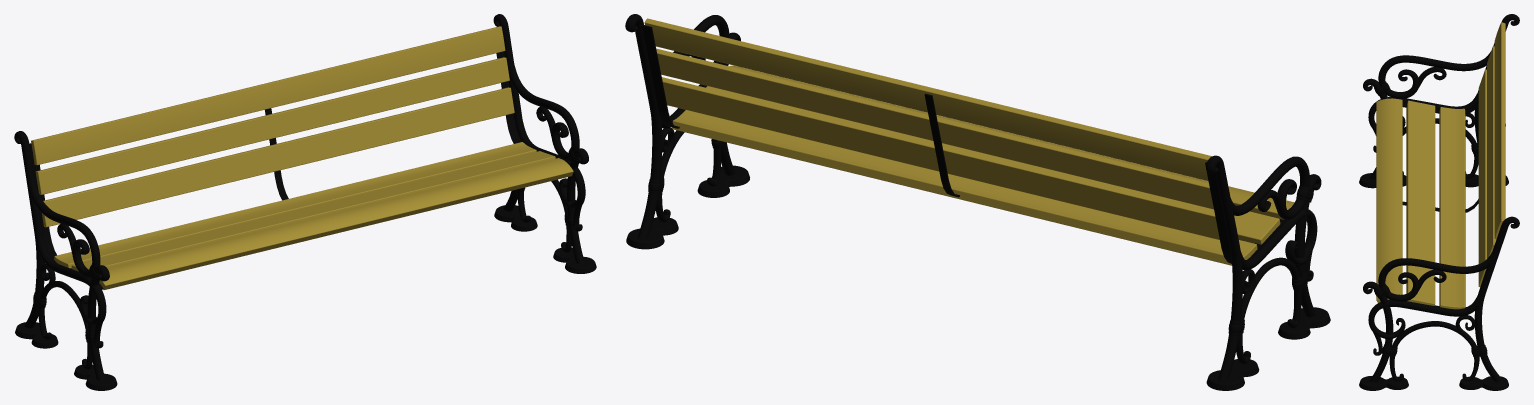
Rendered from Robers_PB1103.fbx.
The picture shows the model from 3 angles, left to right: view 1: azimuth 30°, elevation 25°; view 2: azimuth 150°, elevation 25°; view 3: azimuth 270°, elevation 25°; orthographic projection. The views are drawn at different scales.
Parts seen in each view (by area): view 1: Robers_PB1103; view 2: Robers_PB1103; view 3: Robers_PB1103.
Part boxes in pixels (x1,y1,x2,y2): Robers_PB1103: (14,14,596,390); Robers_PB1103: (625,14,1330,390); Robers_PB1103: (1359,14,1519,390).
Bounding box in the file's own units: 2115 × 773 × 671.
